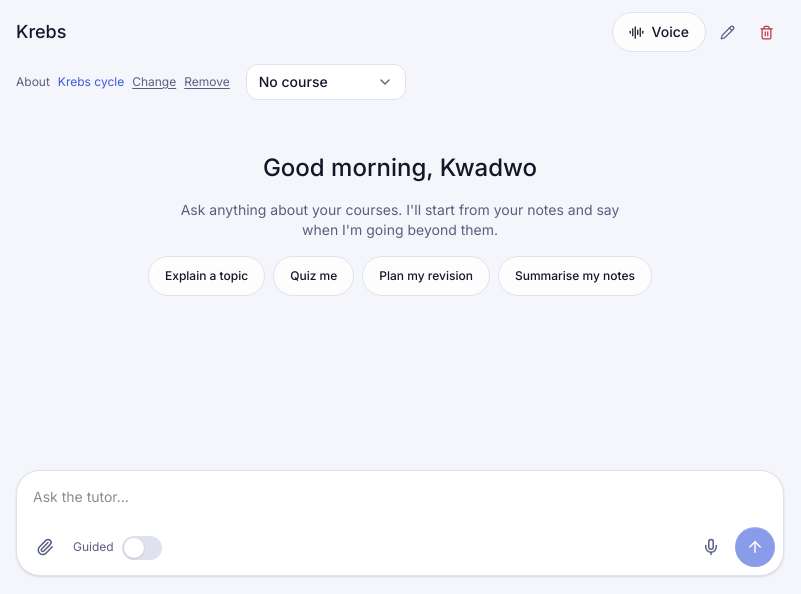
Test case: ChatView › shows the upgrade prompt when the daily tutor limit is reached
This screenshot has width=801, height=594.
Type "One more?" into the text box named "Message".
click(404, 501); type("One more?")  # box [33, 479, 775, 523]
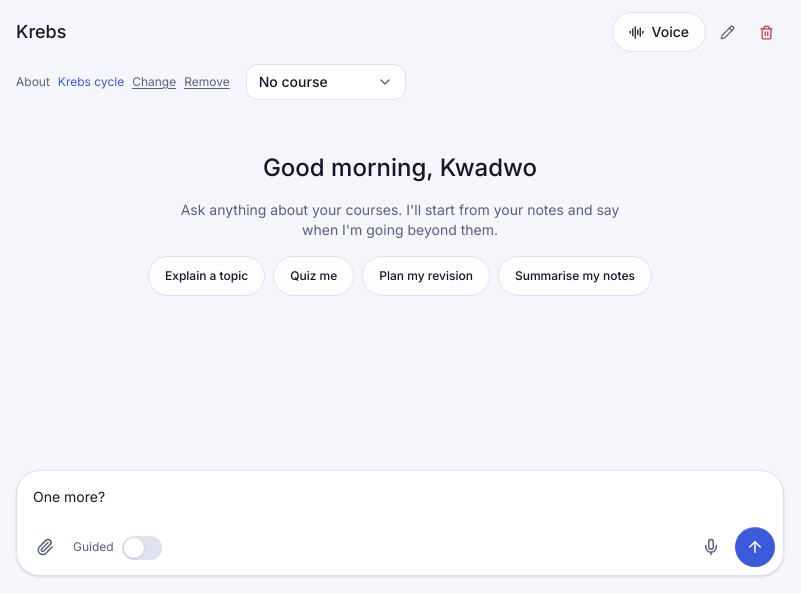
Click the button named "Send".
click(755, 547)  # box [735, 527, 775, 567]
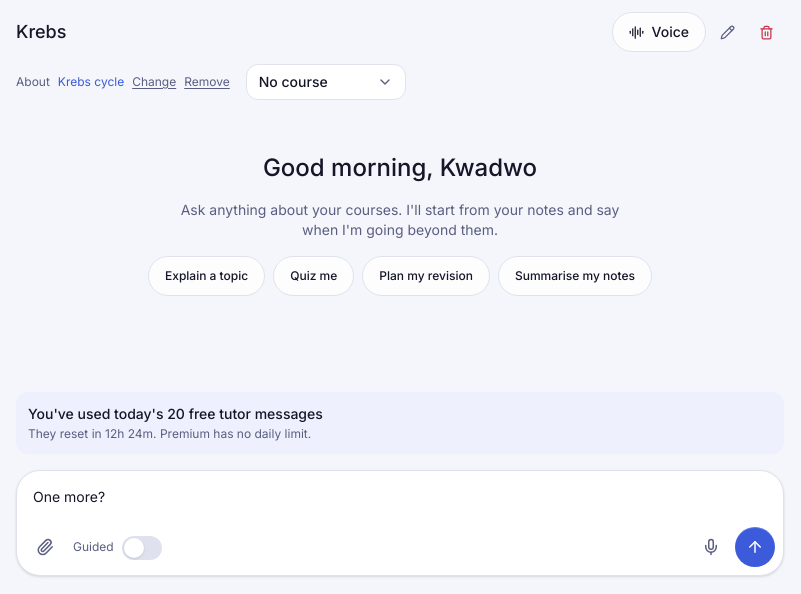
Now the text "You've used today's 20 free tutor messages" is shown, box [28, 405, 323, 422]
